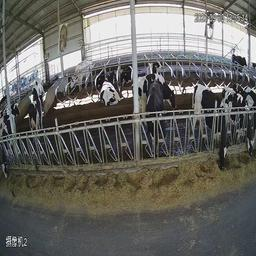cow: (188, 81, 228, 182), (224, 82, 254, 171), (142, 79, 169, 157), (1, 113, 18, 183), (26, 95, 47, 150), (164, 70, 185, 122), (99, 68, 123, 112), (71, 56, 93, 95), (24, 72, 44, 102), (117, 54, 133, 87), (229, 47, 248, 73), (144, 56, 165, 78)
